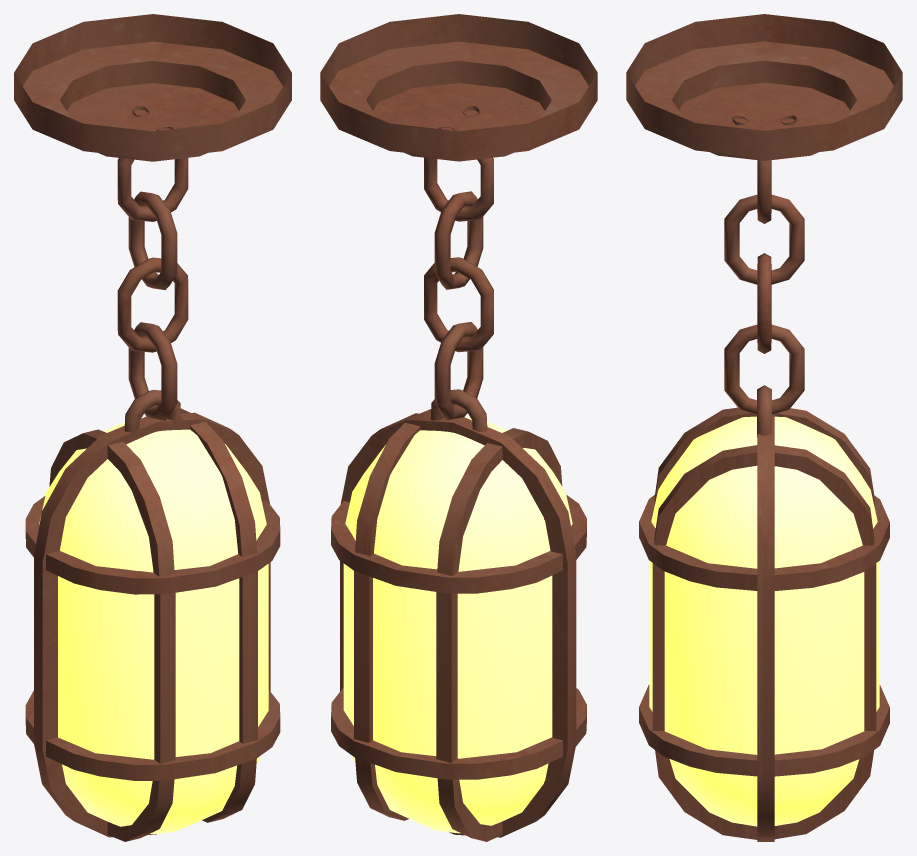
File: Marine_CeilingMounted_Chained_FullBulb_2Ver.fbx
3 renders of one model, left to right at view 1: azimuth 30°, elevation 25°; view 2: azimuth 150°, elevation 25°; view 3: azimuth 270°, elevation 25°, orthographic.
Parts seen in each view (by area): view 1: Marine_CeilingMounted_Chained_FullBulb_2Ver; view 2: Marine_CeilingMounted_Chained_FullBulb_2Ver; view 3: Marine_CeilingMounted_Chained_FullBulb_2Ver.
Boxes of the visible parts, left/top/right/bottom form: Marine_CeilingMounted_Chained_FullBulb_2Ver: left=14, top=14, right=291, bottom=841; Marine_CeilingMounted_Chained_FullBulb_2Ver: left=320, top=14, right=597, bottom=841; Marine_CeilingMounted_Chained_FullBulb_2Ver: left=626, top=14, right=902, bottom=841.
Size of the model in its own units: 22.83 by 68.8 by 22.83.
2 materials, 1 textured.
